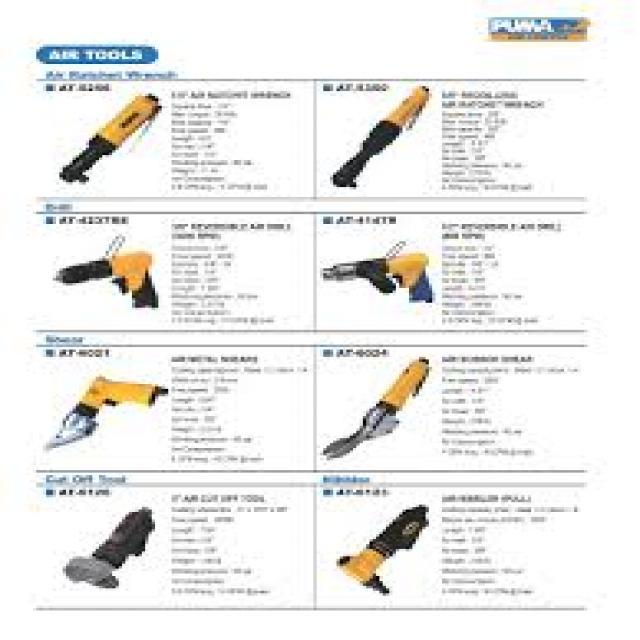drill: (51, 240, 165, 318), (318, 246, 441, 317)
